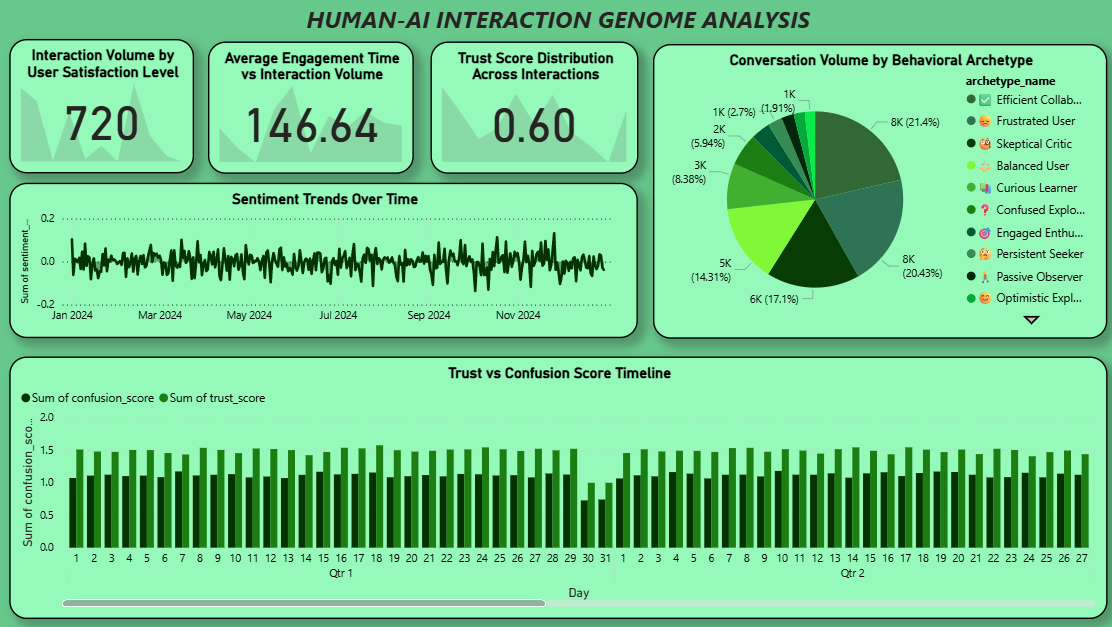

The page's visual inventory and layout, read from the dashboard file:
{"tool":"powerbi","page":{"name":"Page 1","canvas":[1280,720],"ordinal":0},"visuals":[{"type":"kpi","title":"Interaction Volume by User Satisfaction Level","fields":{"Indicator":["Sum(powerbi_archetype_summary (2).conversation_id_count)"],"TrendLine":["powerbi_archetype_summary (2).satisfaction_score_mean"]},"box":[12.5,46.2,211.2,153.8],"z":0},{"type":"kpi","title":"Trust Score Distribution Across Interactions","fields":{"TrendLine":["powerbi_archetype_summary (2).conversation_id_count"],"Indicator":["Sum(powerbi_archetype_summary (2).trust_score_mean)"]},"box":[493.8,48.8,237.5,151.2],"z":1000},{"type":"kpi","title":"Average Engagement Time vs Interaction Volume","fields":{"Indicator":["Sum(powerbi_archetype_summary (2).engagement_time_sec_mean)"],"TrendLine":["powerbi_archetype_summary (2).conversation_id_count"]},"box":[240,48.8,235,151.2],"z":2000},{"type":"pieChart","title":"Conversation Volume by Behavioral Archetype","fields":{"Y":["Sum(powerbi_archetype_summary (2).conversation_id_count)"],"Category":["powerbi_archetype_summary (2).archetype_name"]},"box":[745.7,45.7,521.4,348.6],"z":3000},{"type":"areaChart","title":"Sentiment Trends Over Time","fields":{"Category":["powerbi_temporal_trends (2).date.Variation.Date Hierarchy.Year","powerbi_temporal_trends (2).date.Variation.Date Hierarchy.Quarter","powerbi_temporal_trends (2).date.Variation.Date Hierarchy.Month","powerbi_temporal_trends (2).date.Variation.Date Hierarchy.Day"],"Y":["Sum(powerbi_temporal_trends (2).sentiment_compound)"]},"box":[12.9,217.1,718.6,177.1],"z":4000},{"type":"lineClusteredColumnComboChart","title":"Trust vs Confusion Score Timeline","fields":{"Category":["powerbi_temporal_trends (2).date.Variation.Date Hierarchy.Year","powerbi_temporal_trends (2).date.Variation.Date Hierarchy.Quarter","powerbi_temporal_trends (2).date.Variation.Date Hierarchy.Month","powerbi_temporal_trends (2).date.Variation.Date Hierarchy.Day"],"Y":["Sum(powerbi_temporal_trends (2).confusion_score)","Sum(powerbi_temporal_trends (2).trust_score)"]},"box":[12.5,408.8,1255,300],"z":5000},{"type":"textbox","box":[327.5,0,626.2,46.2],"z":6000}]}

Visuals, with their boxes in screenshot pixels (x1, y1, x2, y2), scaled from the page's 1280x720 canvas onto the 1112x627 screenshot:
"Interaction Volume by User Satisfaction Level" kpi: select_region(11, 40, 194, 174)
"Trust Score Distribution Across Interactions" kpi: select_region(429, 42, 635, 174)
"Average Engagement Time vs Interaction Volume" kpi: select_region(208, 42, 413, 174)
"Conversation Volume by Behavioral Archetype" pieChart: select_region(648, 40, 1101, 343)
"Sentiment Trends Over Time" areaChart: select_region(11, 189, 635, 343)
"Trust vs Confusion Score Timeline" lineClusteredColumnComboChart: select_region(11, 356, 1101, 617)
textbox: select_region(285, 0, 829, 40)
